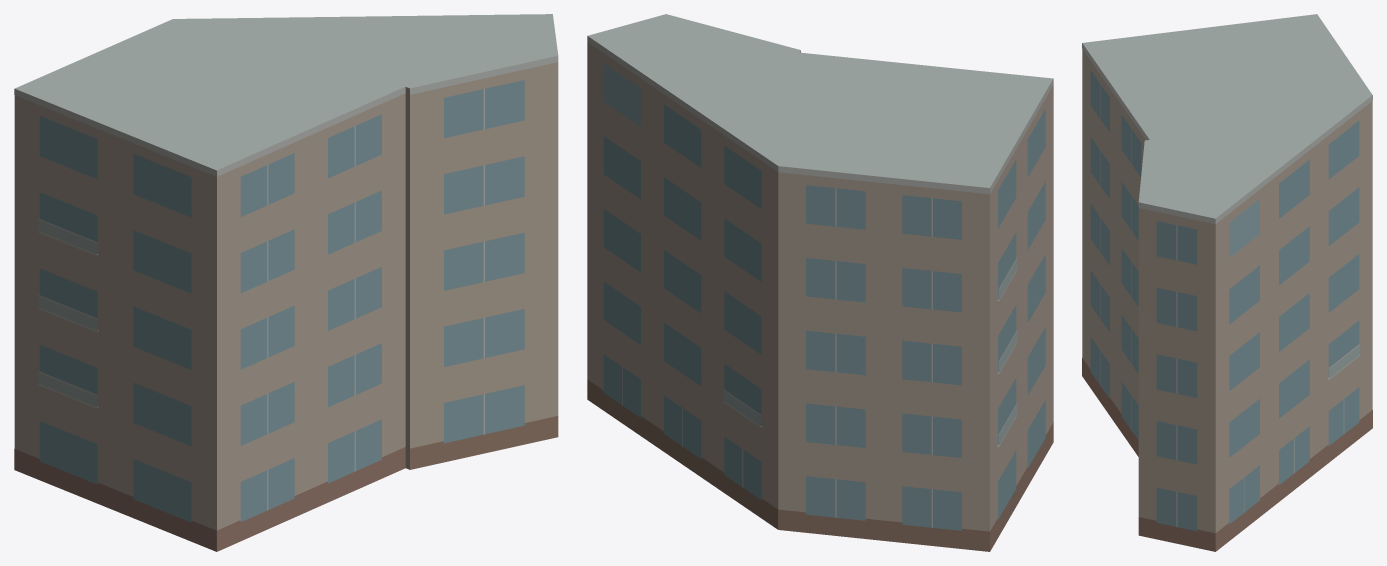
Rendered from survey-upis-32950249.glb.
3 views of the same model, side by side, from view 1: azimuth 30°, elevation 25°; view 2: azimuth 150°, elevation 25°; view 3: azimuth 270°, elevation 25° (orthographic). The views are drawn at different scales.
Parts seen in each view (by area): view 1: survey-upis-32950249.tmp; view 2: survey-upis-32950249.tmp; view 3: survey-upis-32950249.tmp.
Part boxes in pixels (x1,y1,x2,y2): survey-upis-32950249.tmp: [14, 14, 558, 551]; survey-upis-32950249.tmp: [587, 14, 1053, 551]; survey-upis-32950249.tmp: [1082, 14, 1372, 551].
Size of the model in its own units: 19.11 by 14.5 by 11.47.
